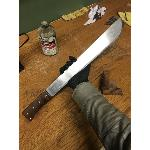Golok: (20, 17, 128, 125)
